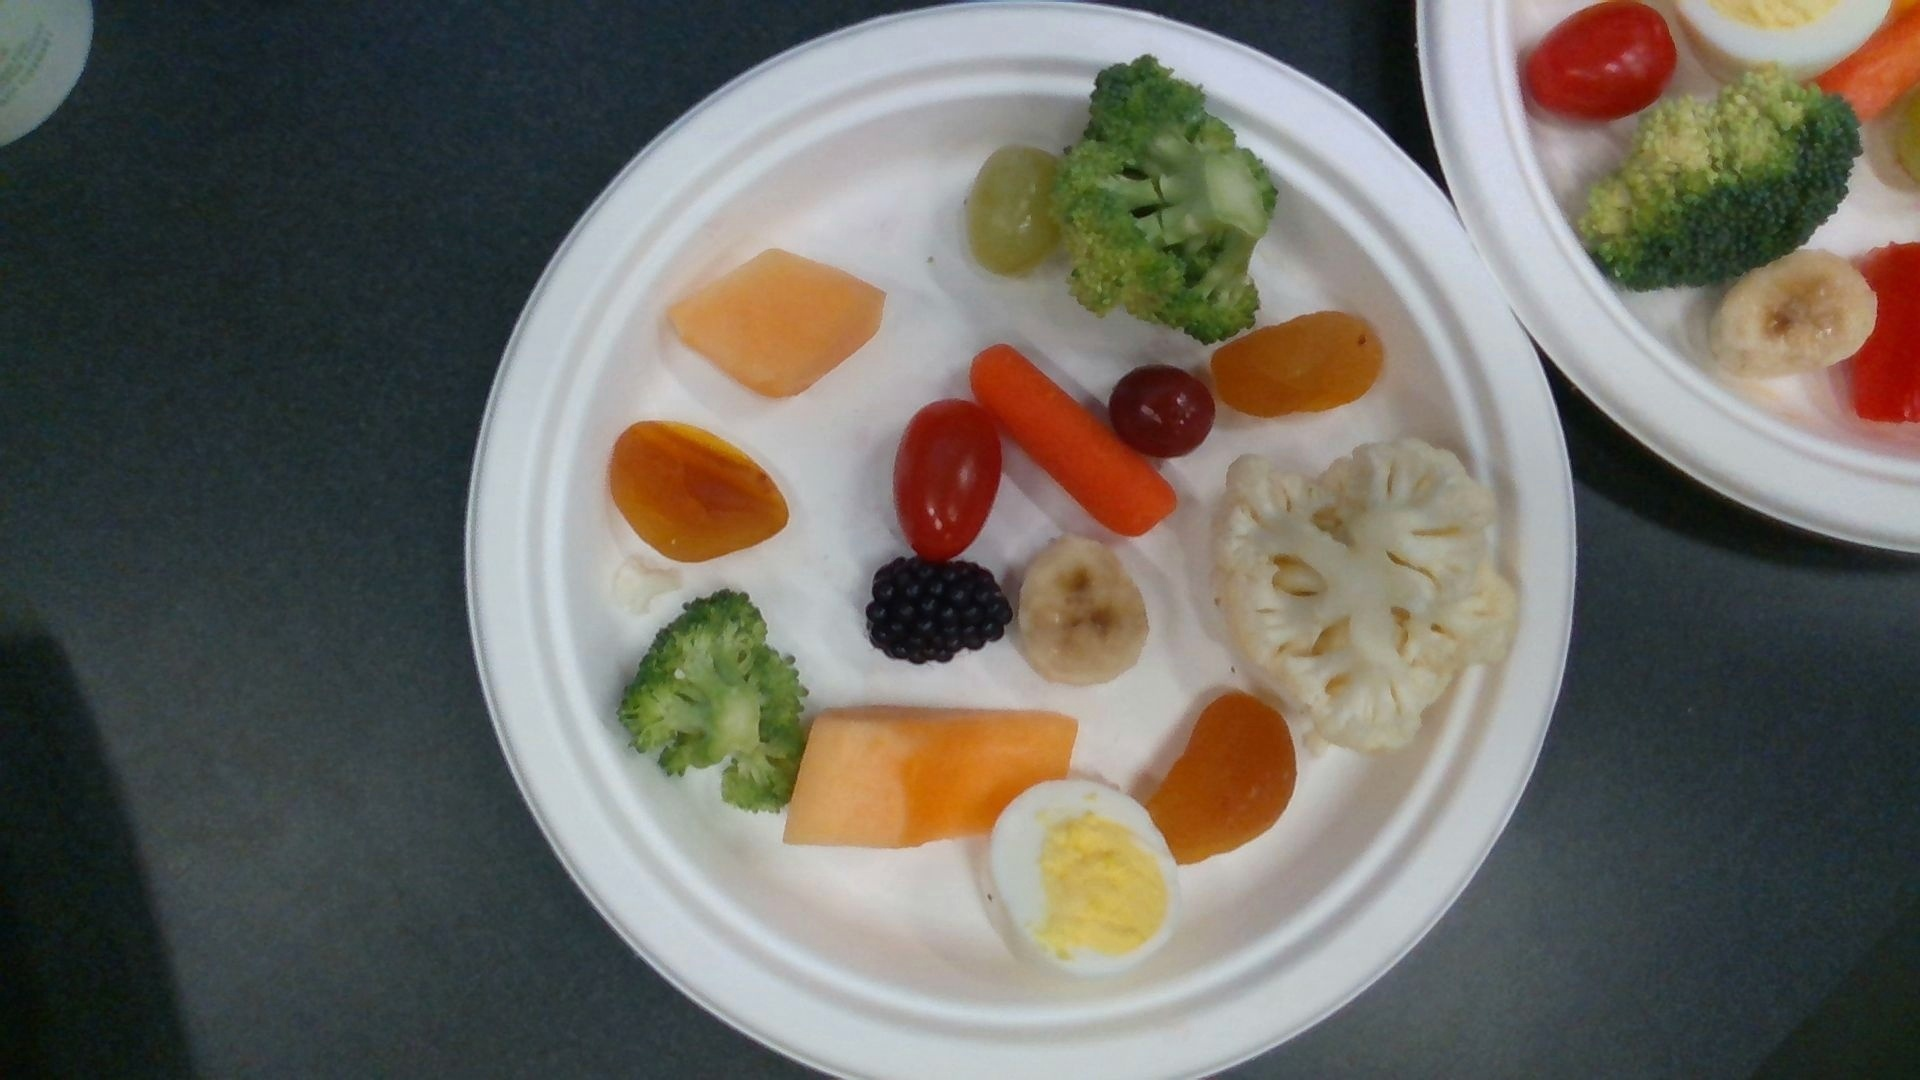apricot: (1147, 698, 1295, 862), (615, 426, 785, 560), (1211, 316, 1385, 415)
banana: (1722, 253, 1879, 375), (1022, 541, 1145, 680)
blackberry: (870, 563, 1007, 661)
broccoli: (1055, 61, 1274, 331), (1584, 78, 1857, 281), (629, 595, 804, 811)
cantalope: (782, 713, 1077, 845), (675, 255, 882, 396)
carrot: (972, 348, 1174, 535)
cauliflower: (1218, 440, 1514, 753)
cherry_tomato: (1527, 3, 1672, 117), (899, 405, 1000, 556)
egg: (994, 781, 1184, 976)
grape_green: (972, 150, 1064, 273)
grape_purple: (1114, 368, 1212, 454)
